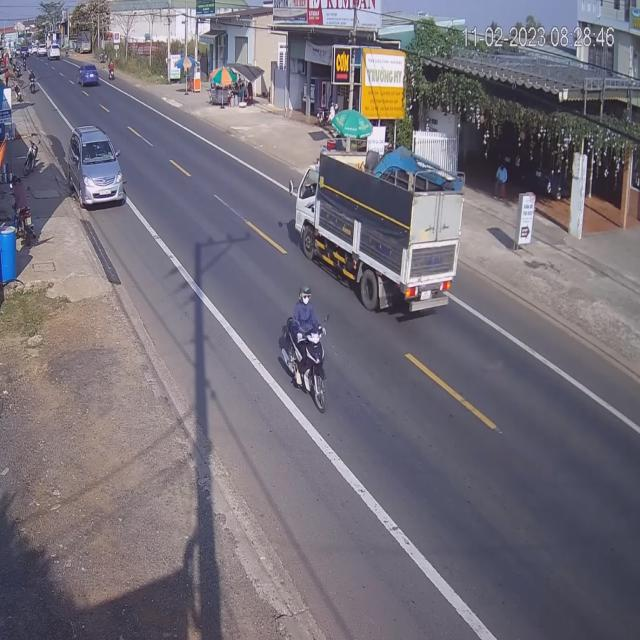car: (67, 126, 126, 210), (81, 64, 100, 88)
motorbike: (279, 289, 327, 414)
truck: (299, 142, 467, 314)
